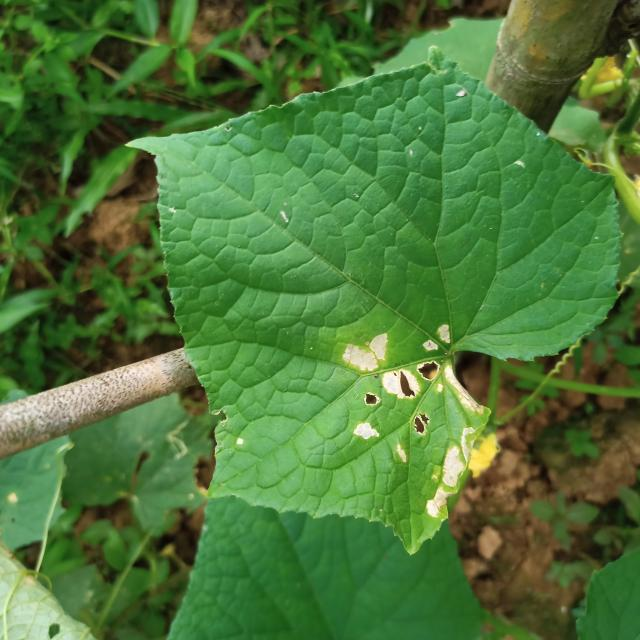disease_cucumber: (341, 324, 484, 518)
